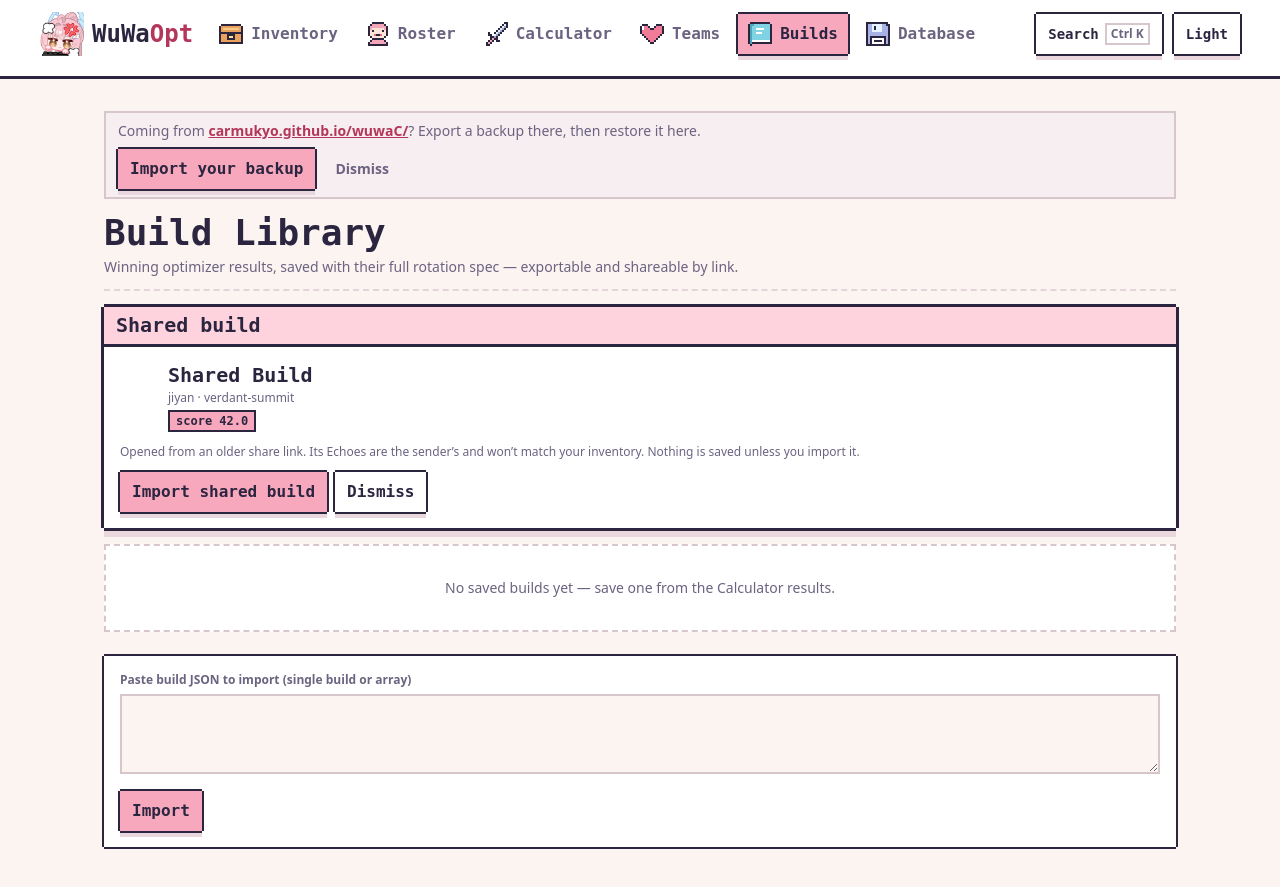
Test case: share link opened through the app shell › opens Builds with a preview and imports only on Import
Expected: the text "Shared Build" is shown, [168,363,312,387]
Click the button "Import shared build". click: (224, 492)
box: [120,472,327,512]
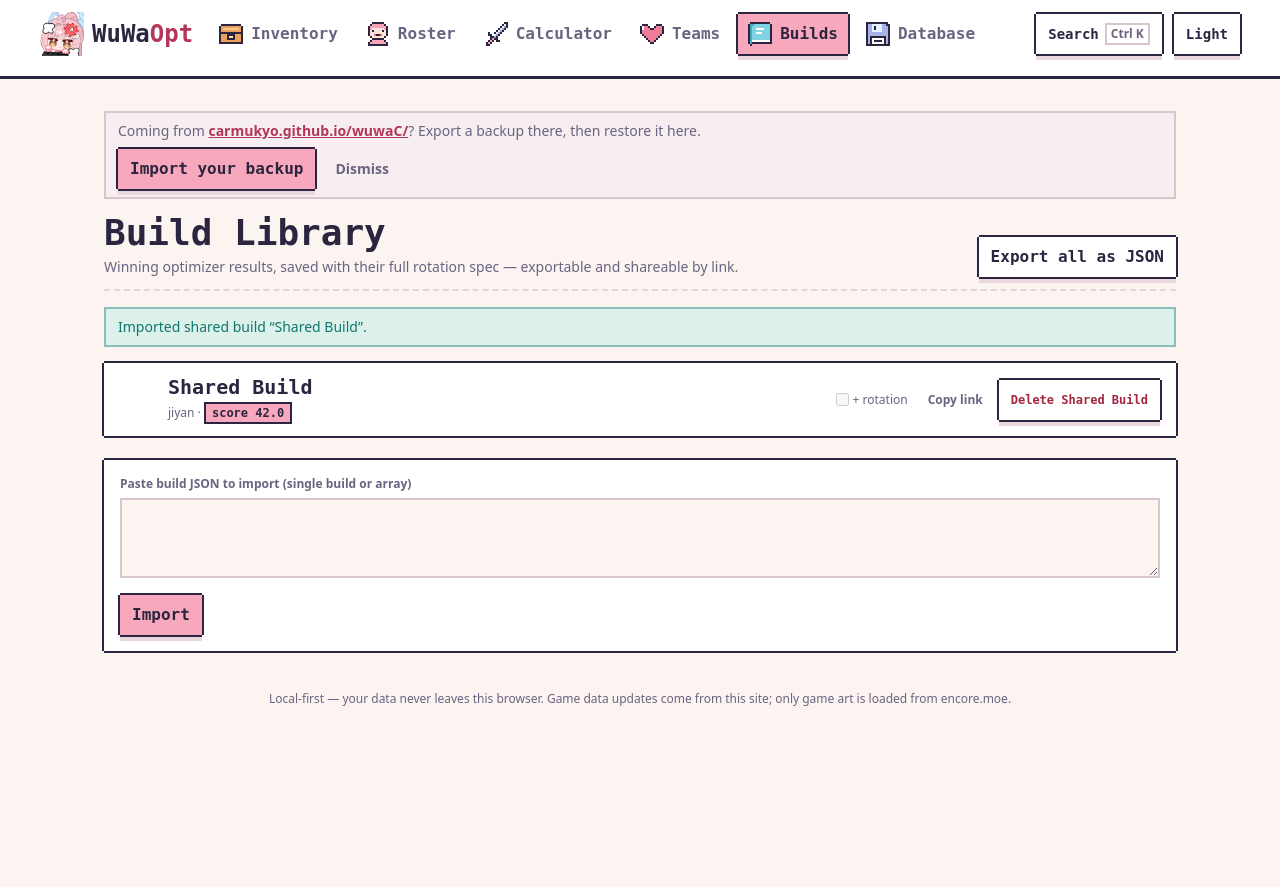
Expected: the text "Imported shared build “Shared Build”." is shown, [104,307,1176,347]
